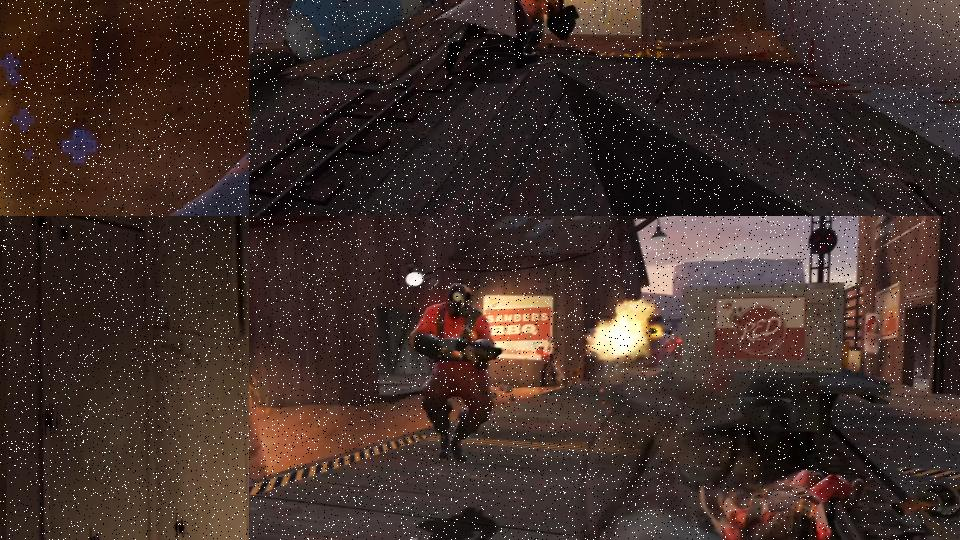Enemy: (39, 0, 249, 216), (406, 282, 501, 464), (701, 467, 868, 540), (427, 0, 540, 74), (537, 335, 566, 387)
